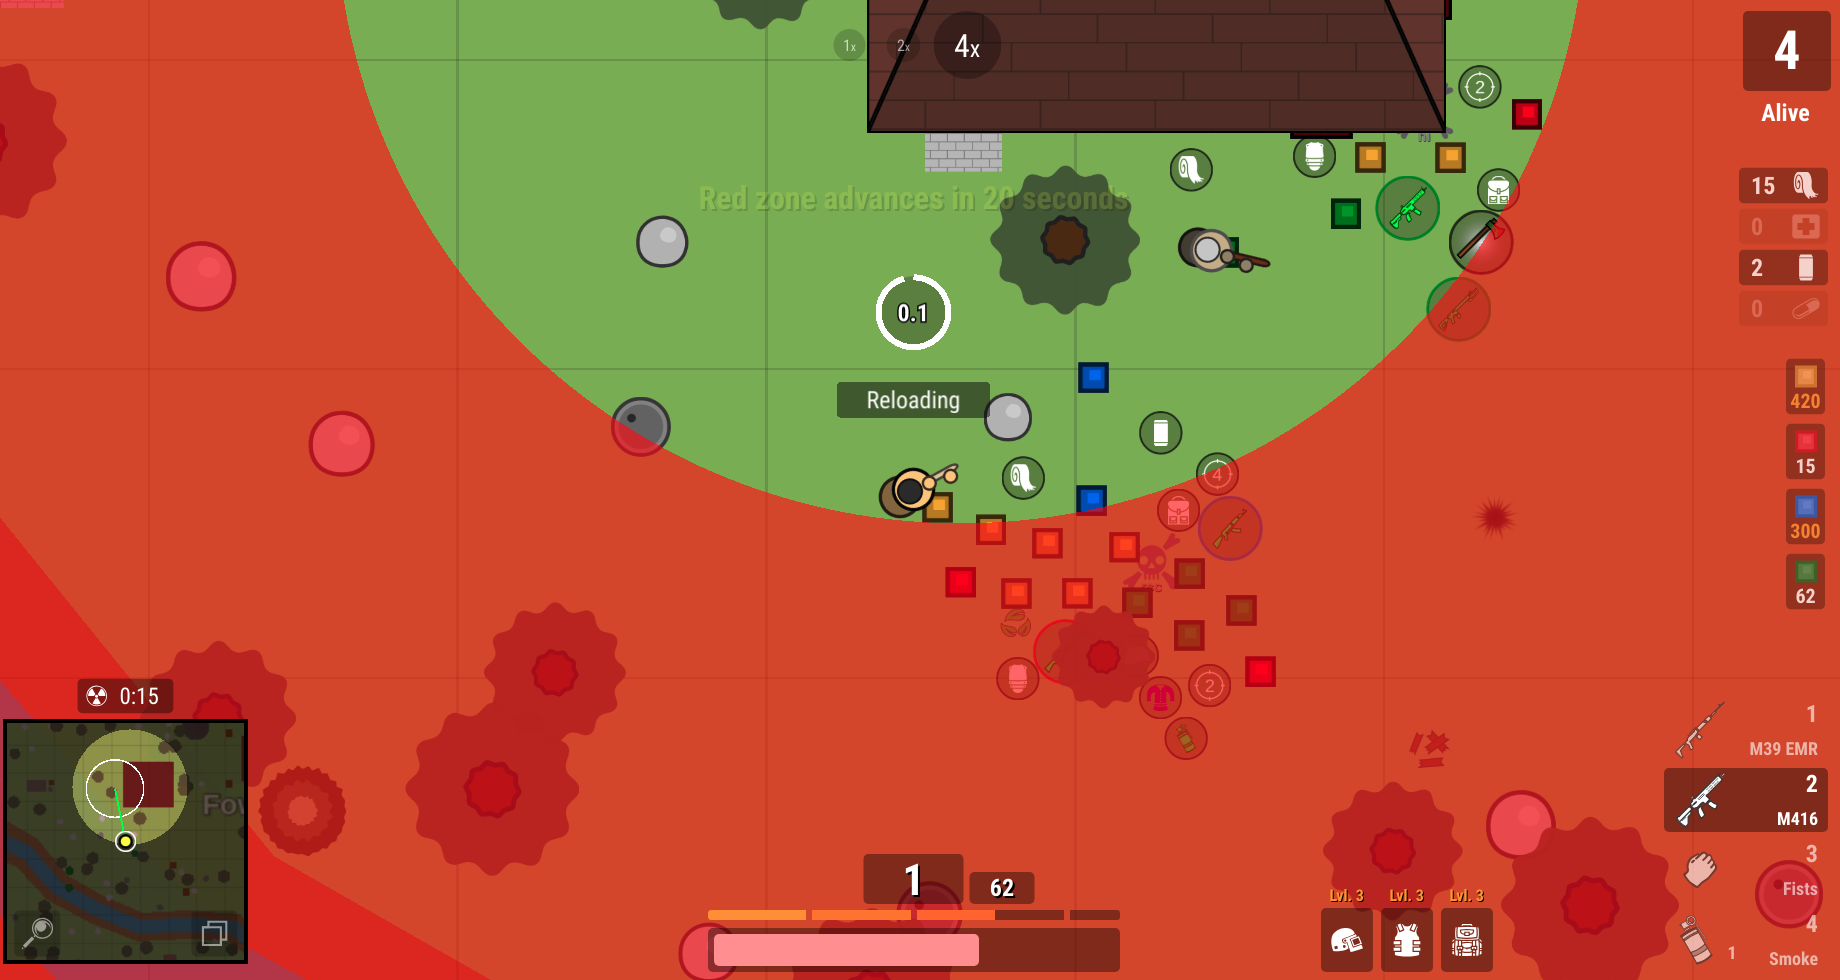Player: (868, 443, 976, 527), (1163, 214, 1284, 284)
